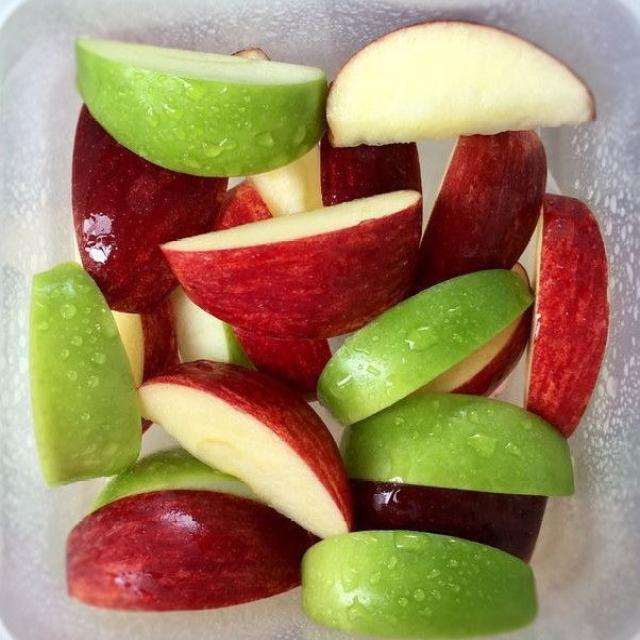apple: (162, 191, 422, 339), (139, 362, 350, 537), (76, 38, 326, 176), (327, 21, 594, 145), (318, 270, 532, 423), (73, 108, 226, 313), (67, 490, 313, 610), (302, 531, 536, 638), (30, 263, 141, 484), (342, 394, 574, 496), (416, 131, 546, 290), (526, 195, 609, 436), (174, 289, 330, 398), (351, 479, 547, 561), (93, 447, 256, 510), (423, 308, 532, 395), (320, 136, 422, 206), (235, 328, 331, 399), (171, 287, 251, 366), (113, 301, 179, 385), (250, 146, 322, 217), (250, 146, 322, 216), (212, 181, 272, 231), (232, 47, 270, 60)
